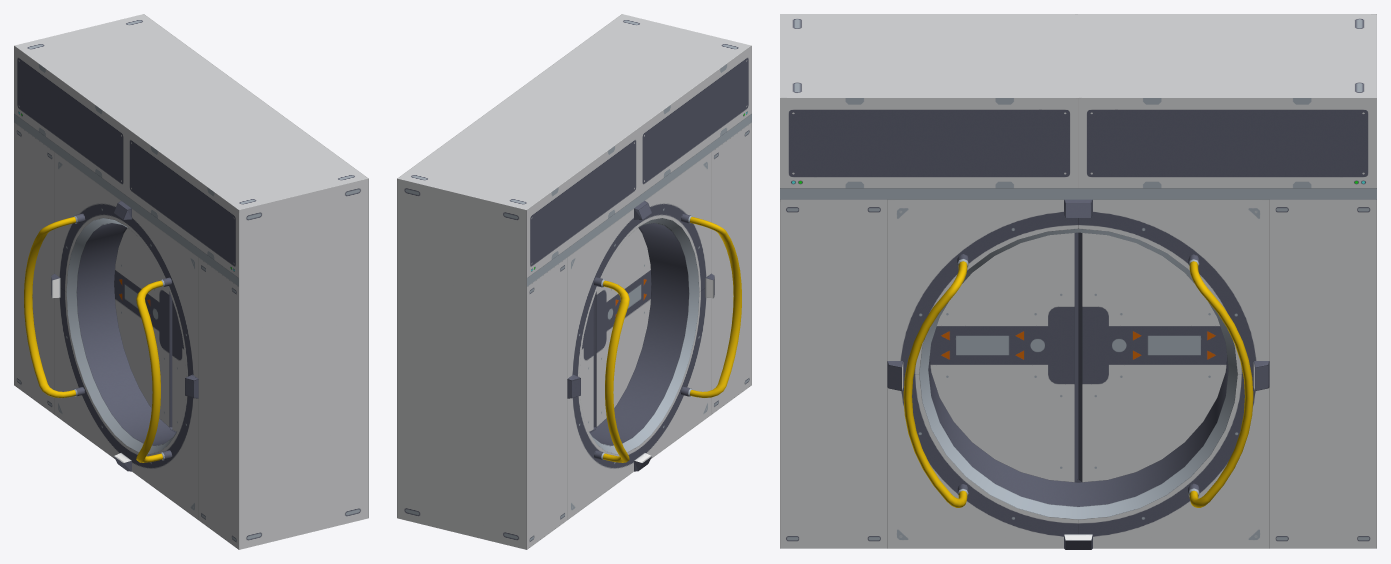
File: Wall_Door_Circular_01.FBX
3 renders of one model, left to right at view 1: azimuth 30°, elevation 25°; view 2: azimuth 150°, elevation 25°; view 3: azimuth 270°, elevation 25°, orthographic. The views are drawn at different scales.
Visible parts, largest first — view 1: Wall_Door_Circular_01, Door_Left, Door_Right; view 2: Wall_Door_Circular_01, Door_Right, Door_Left; view 3: Wall_Door_Circular_01, Door_Right, Door_Left.
Boxes of the visible parts, x1,y1,x2,y2 form: Wall_Door_Circular_01: (14, 14, 368, 549); Door_Left: (114, 228, 172, 427); Door_Right: (172, 300, 186, 431); Wall_Door_Circular_01: (397, 14, 751, 549); Door_Right: (593, 228, 651, 427); Door_Left: (579, 300, 593, 431); Wall_Door_Circular_01: (780, 14, 1376, 549); Door_Right: (929, 232, 1078, 482); Door_Left: (1078, 232, 1227, 482).
Size of the model in its own units: 3.18 by 5 by 6.
